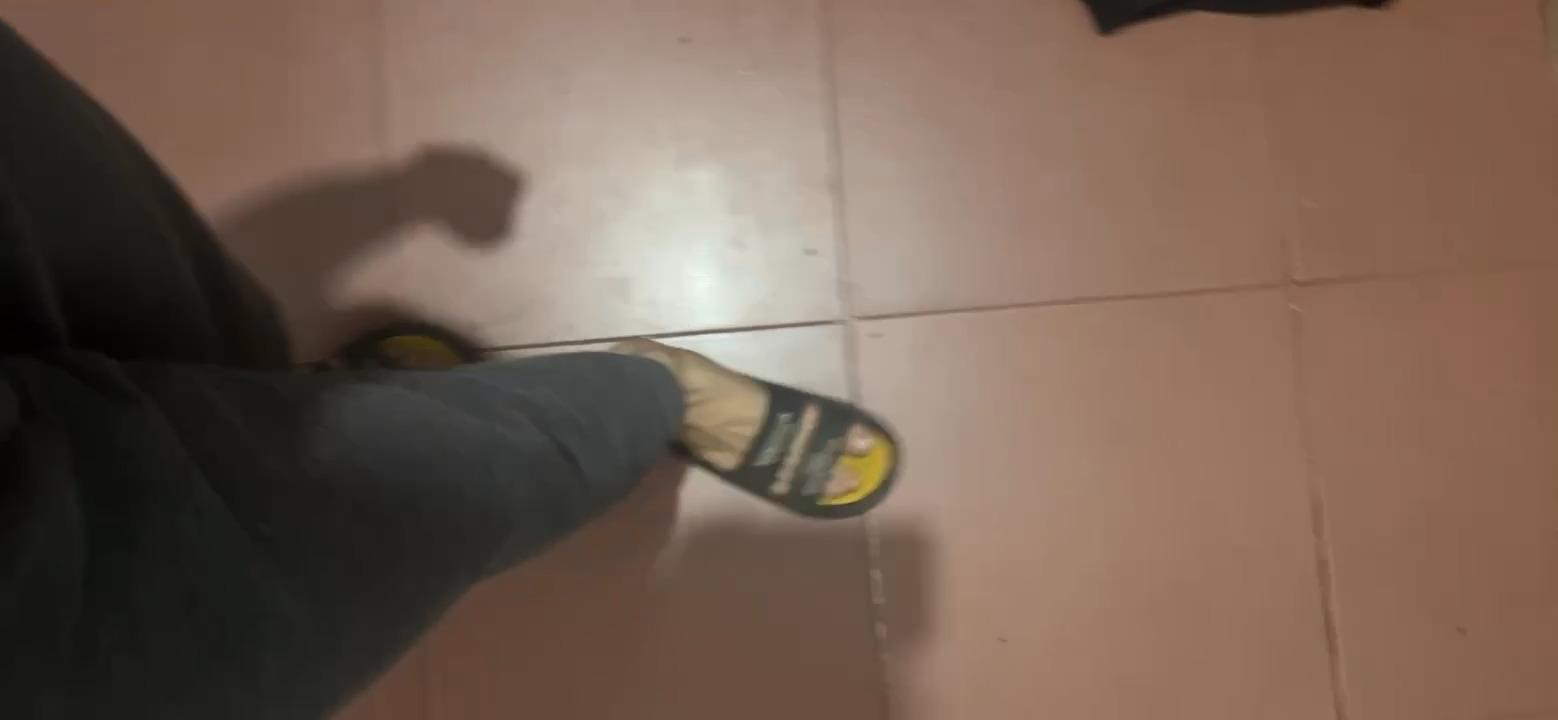no-boot: (613, 329, 902, 531)
